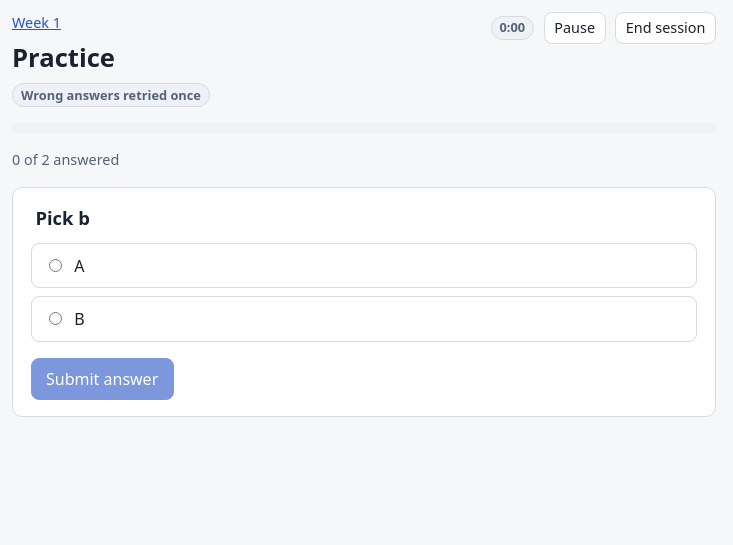
it: requeue mode › shows the verdict without the answer and says the question comes back
Click the radio button labelled "A" at (55, 265), box [49,259,62,272]
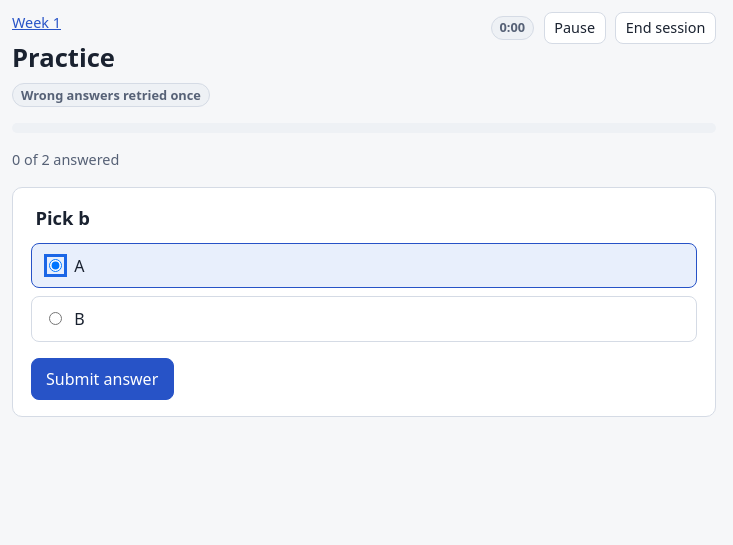
Click the button "Submit answer" at (102, 379), box [31,358,174,400]
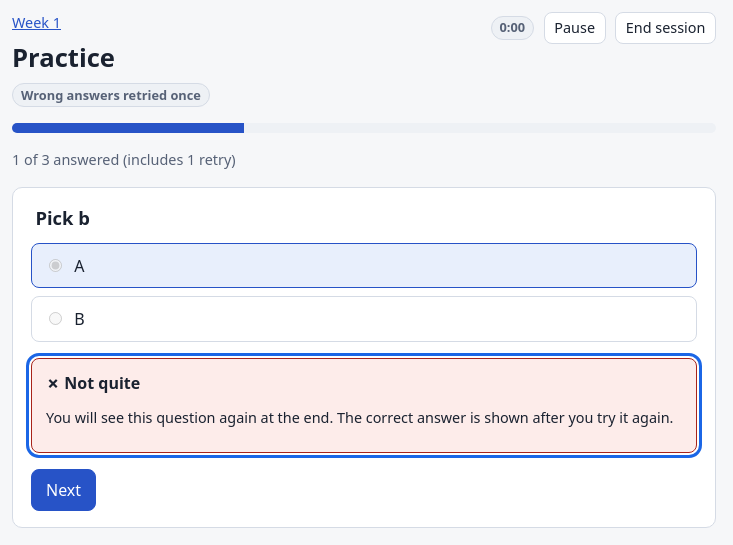
Now the text "✗ Not quite" is shown, box [46,372,140,394]
Now the text "see this question again at the end" is shown, box [46,408,674,427]
Now the text "1 of 3 answered (includes 1 retry)" is shown, box [12,150,236,169]
